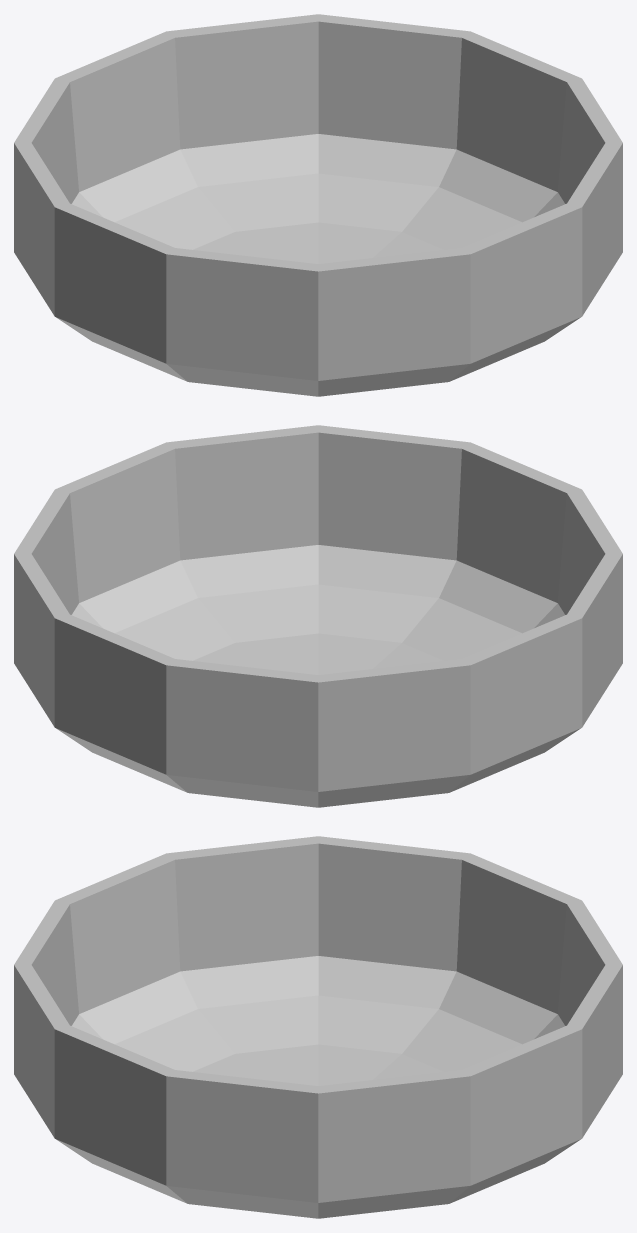
File: miska.fbx
3 views of the same model, one above another, from view 1: azimuth 30°, elevation 25°; view 2: azimuth 150°, elevation 25°; view 3: azimuth 270°, elevation 25° (orthographic).
Parts seen in each view (by area): view 1: miska; view 2: miska; view 3: miska.
Boxes of the visible parts, bbox=[...] form: miska: bbox=[14, 14, 622, 396]; miska: bbox=[14, 425, 622, 807]; miska: bbox=[14, 836, 622, 1218].
Size of the model in its own units: 200 by 59.02 by 200.
1 material, 1 textured.
